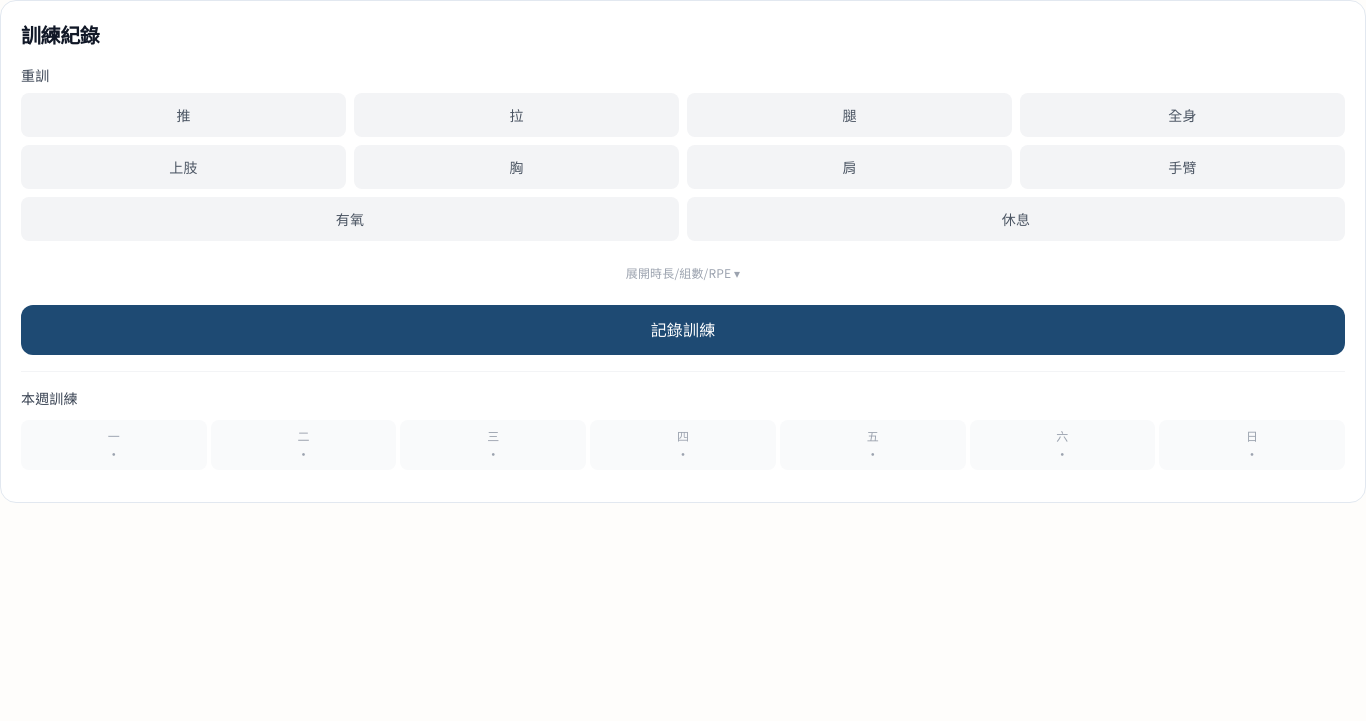
Scenario: TrainingLog › expands advanced fields in simple mode when clicked
Click the button "推".
click(184, 115)  # box [21,93,346,137]
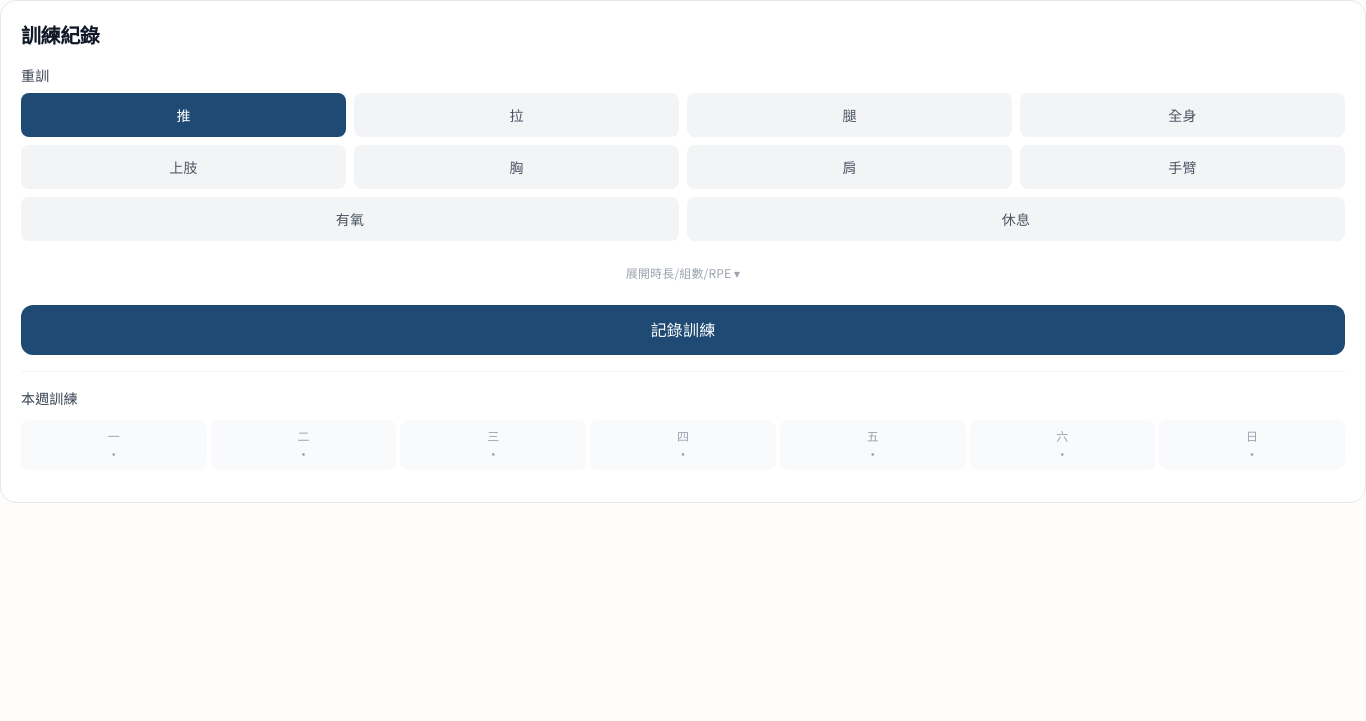
Click the button "展開時長/組數/RPE ▾".
click(683, 273)  # box [21,257,1345,289]
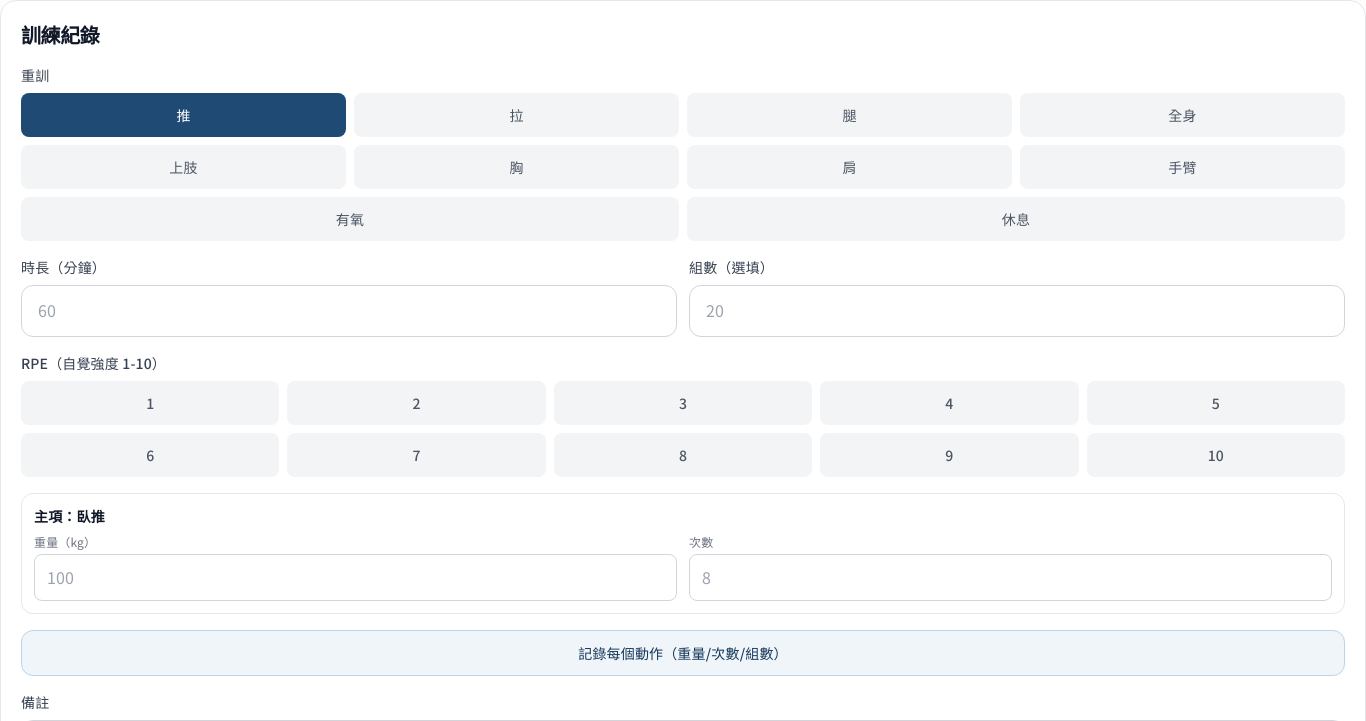
expect the number field with placeholder "60" is shown: met, box [21,285,677,337]
